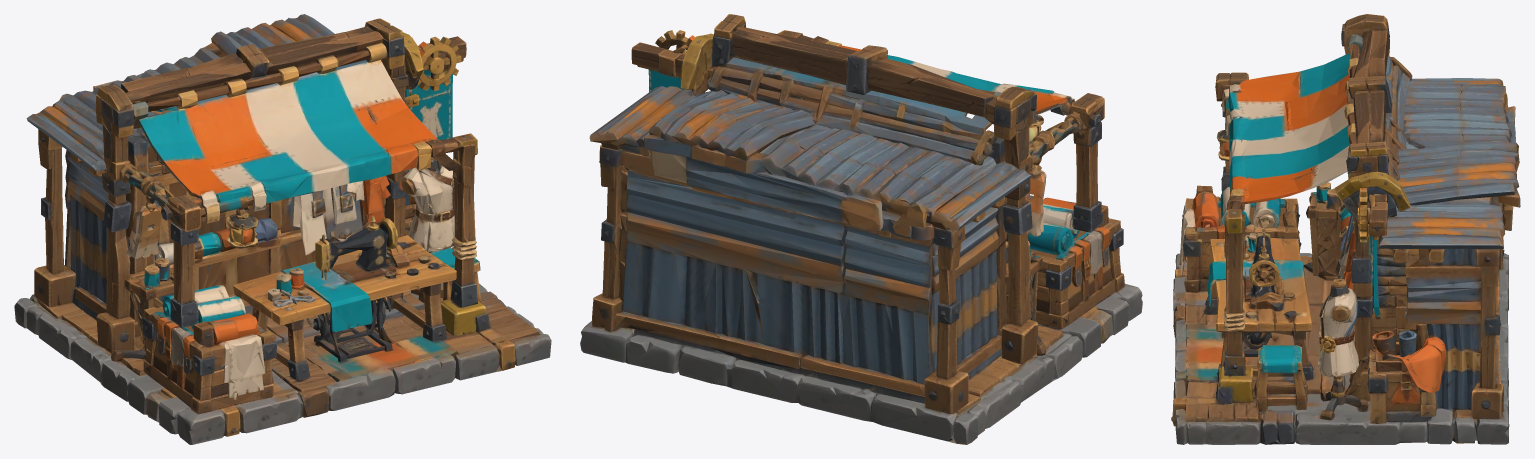
Rendered from building_tailor.glb.
The picture shows the model from 3 angles, left to right: view 1: azimuth 30°, elevation 25°; view 2: azimuth 150°, elevation 25°; view 3: azimuth 270°, elevation 25°; orthographic projection. The views are drawn at different scales.
Visible parts, largest first — view 1: output_unwrapped; view 2: output_unwrapped; view 3: output_unwrapped.
Part boxes in pixels (x1,y1,x2,y2): output_unwrapped: [14, 14, 551, 444]; output_unwrapped: [580, 14, 1142, 444]; output_unwrapped: [1171, 14, 1520, 444].
Size of the model in its own units: 1.9 by 1.34 by 1.55.
Materials: 1 (1 with a texture image).
